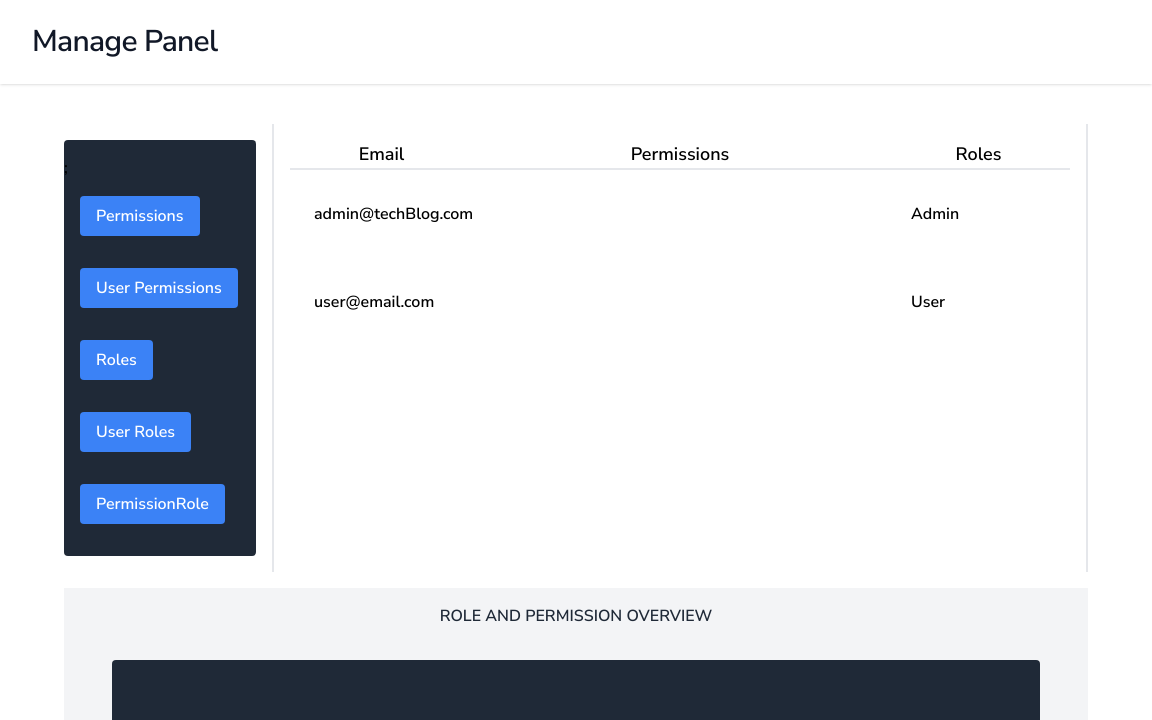
Scenario: ManagePanel Component › should open and close the PermissionsModal correctly
Click the button with test id "open-permissions-modal" at (140, 216), box [80, 196, 200, 236]
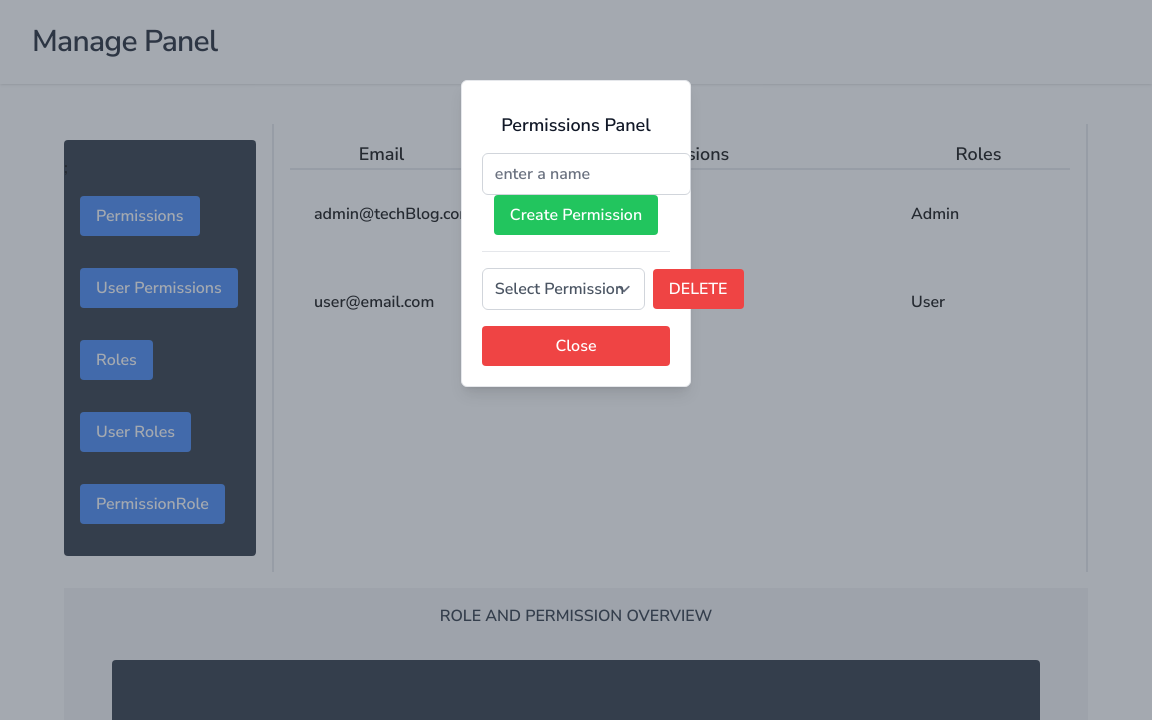
Result: the heading "Permissions Panel" is shown at [501, 113, 651, 137]
Click the button "Close" at (576, 346), box [482, 326, 670, 366]
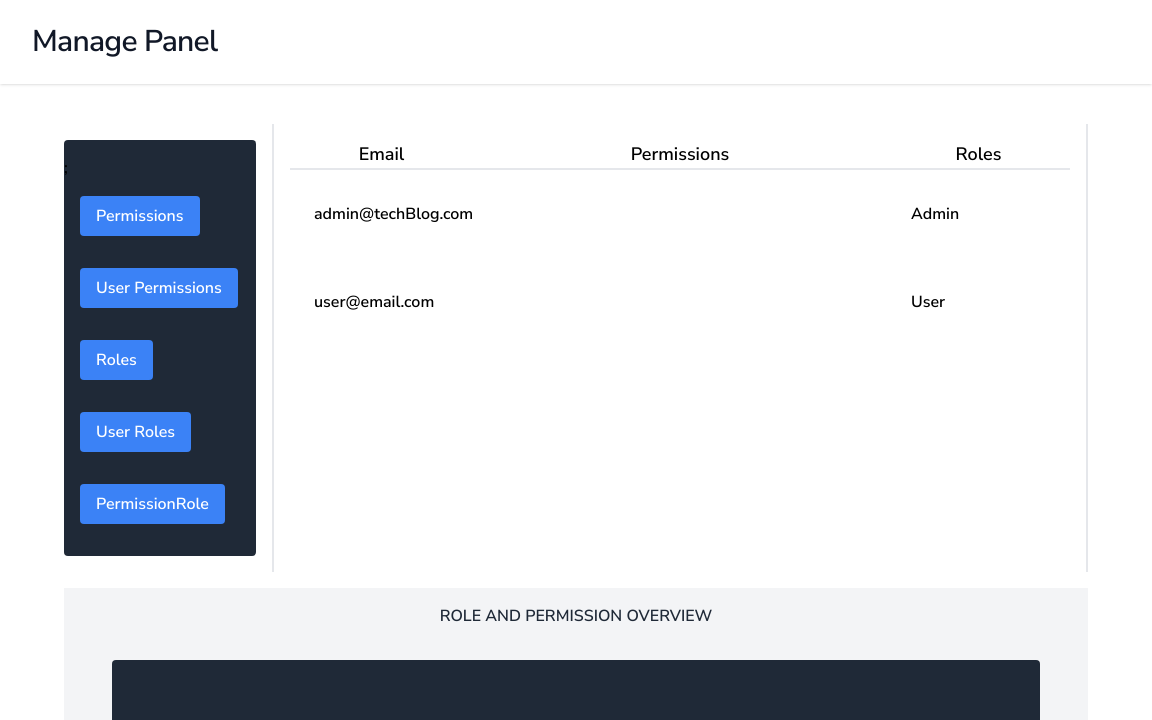
Result: the heading with test id "permissions-panel" is gone
